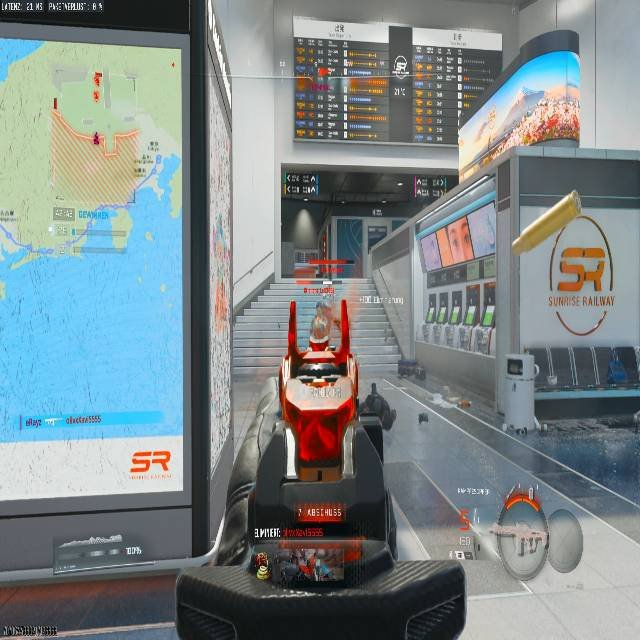head: (134, 184, 161, 203)
